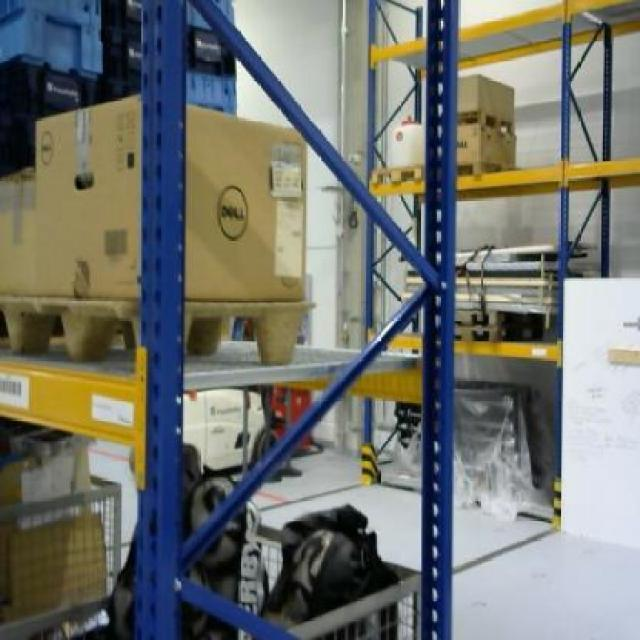box: (36, 92, 310, 300), (0, 168, 34, 296), (458, 74, 522, 122), (454, 124, 520, 170)
